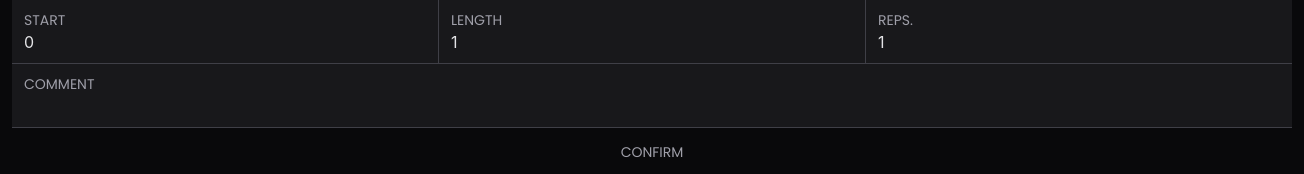
Test: Pattern form › When I'm setting a pattern number of repetition, the app prevents me from setting it longer than the song
The image size is (1304, 174).
Click the number field labelled "length" at (652, 42), box [451,30,853,54]
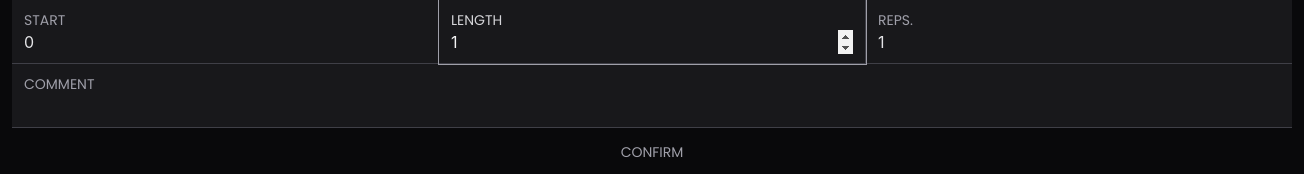
Type keys "backspace"
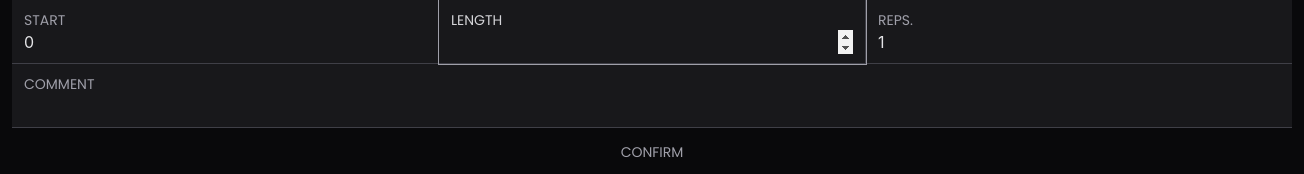
Type "5" into the number field labelled "length" at (652, 42), box [451,30,853,54]
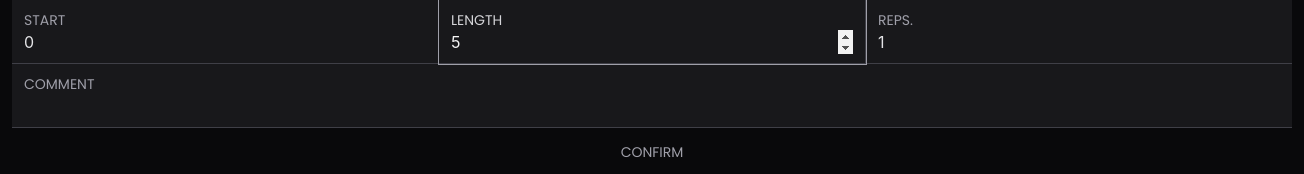
Click the number field labelled "reps." at (1079, 42), box [878,30,1280,54]
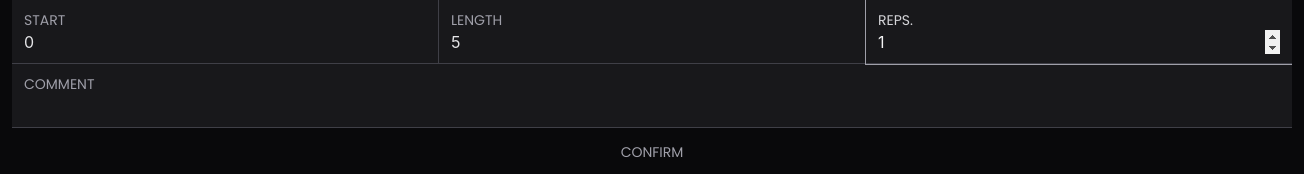
Type keys "backspace"
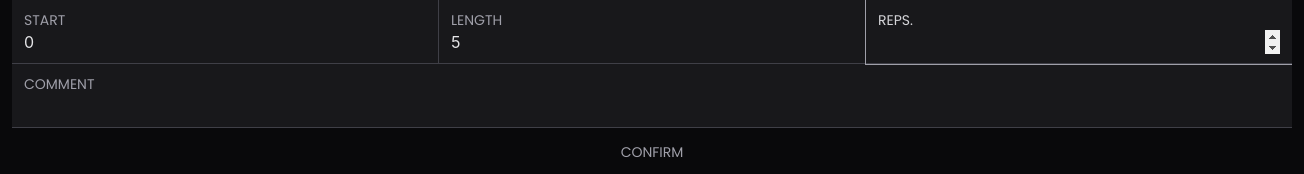
Type "3" into the number field labelled "reps." at (1079, 42), box [878,30,1280,54]
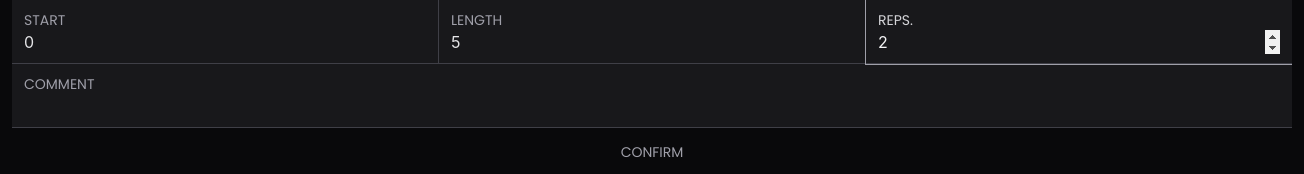
Check: the number field labelled "reps." holds "2", box [878,30,1280,54]
